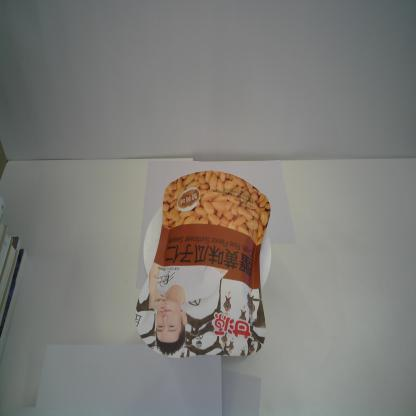Dried Fruit: (134, 169, 271, 358)
